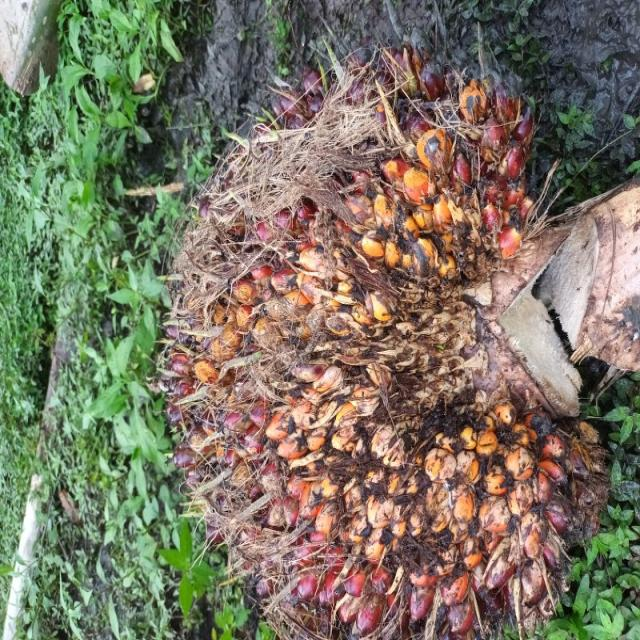fraksi 1: (0, 179, 445, 640)
